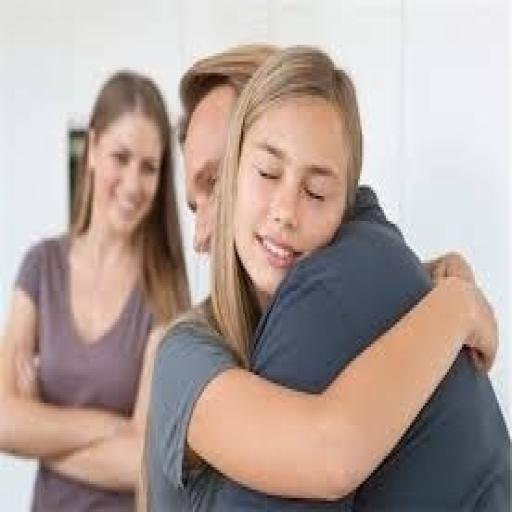hugging: (139, 42, 510, 509), (0, 67, 193, 509)
